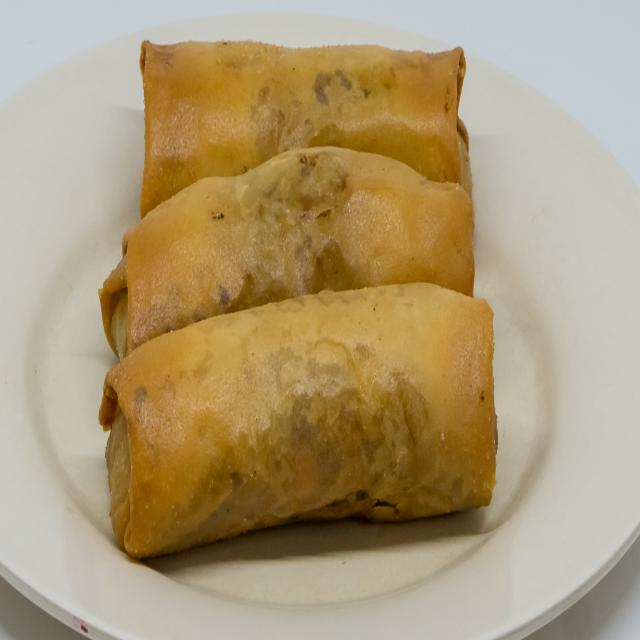Lumpia-Semarang: (89, 13, 508, 567)
